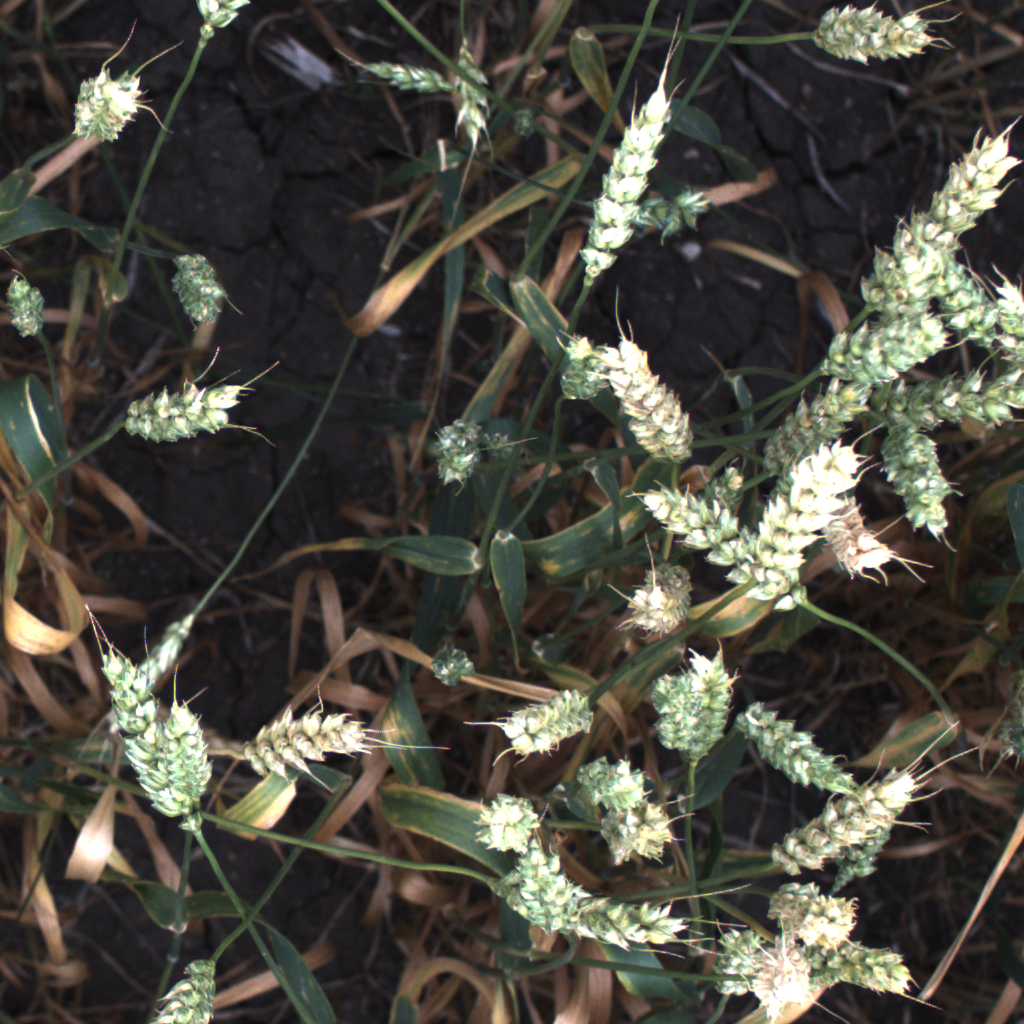wheat_head: (847, 123, 1024, 328), (562, 67, 692, 295), (714, 434, 874, 598), (616, 464, 796, 601), (89, 633, 193, 829), (762, 762, 923, 882), (493, 871, 692, 961), (724, 690, 864, 803), (232, 693, 389, 790), (629, 646, 749, 763), (740, 383, 867, 492), (600, 326, 699, 463), (111, 360, 254, 453), (877, 418, 969, 552), (53, 50, 156, 163), (798, 0, 948, 72), (807, 318, 954, 390), (892, 360, 1019, 443), (767, 941, 918, 1009), (125, 946, 245, 1024), (814, 497, 920, 580), (410, 404, 500, 500), (160, 685, 221, 821), (752, 875, 867, 947), (497, 687, 601, 766), (829, 803, 908, 897), (559, 743, 655, 818), (441, 40, 503, 156), (618, 557, 704, 640), (158, 235, 227, 338), (694, 921, 779, 1003), (932, 252, 1001, 352), (586, 802, 689, 868), (545, 327, 618, 416), (472, 783, 546, 864), (1, 265, 57, 352), (356, 58, 464, 102), (986, 274, 1024, 352), (175, 0, 249, 38), (421, 644, 471, 689)
